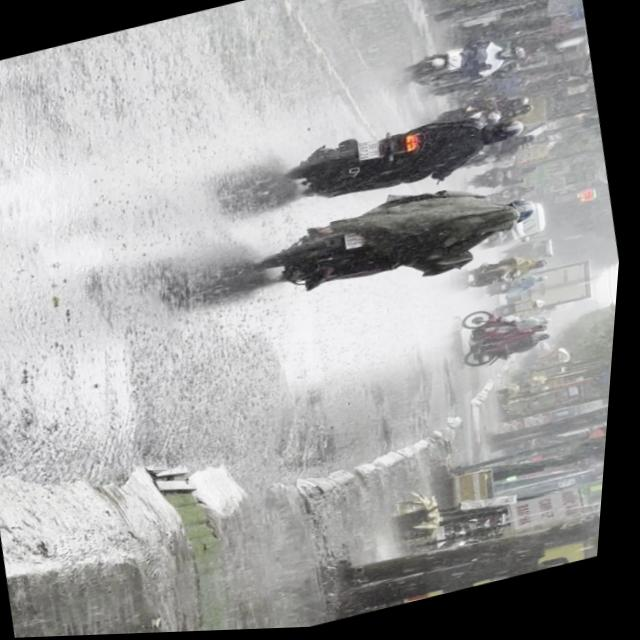helmet: (486, 119, 529, 149), (504, 198, 542, 230)
licenseplate: (248, 162, 560, 314), (277, 96, 538, 218)
nohelmet: (359, 142, 383, 164), (346, 232, 367, 252)
